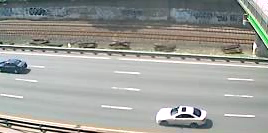car: (152, 103, 209, 128), (1, 58, 30, 74)
